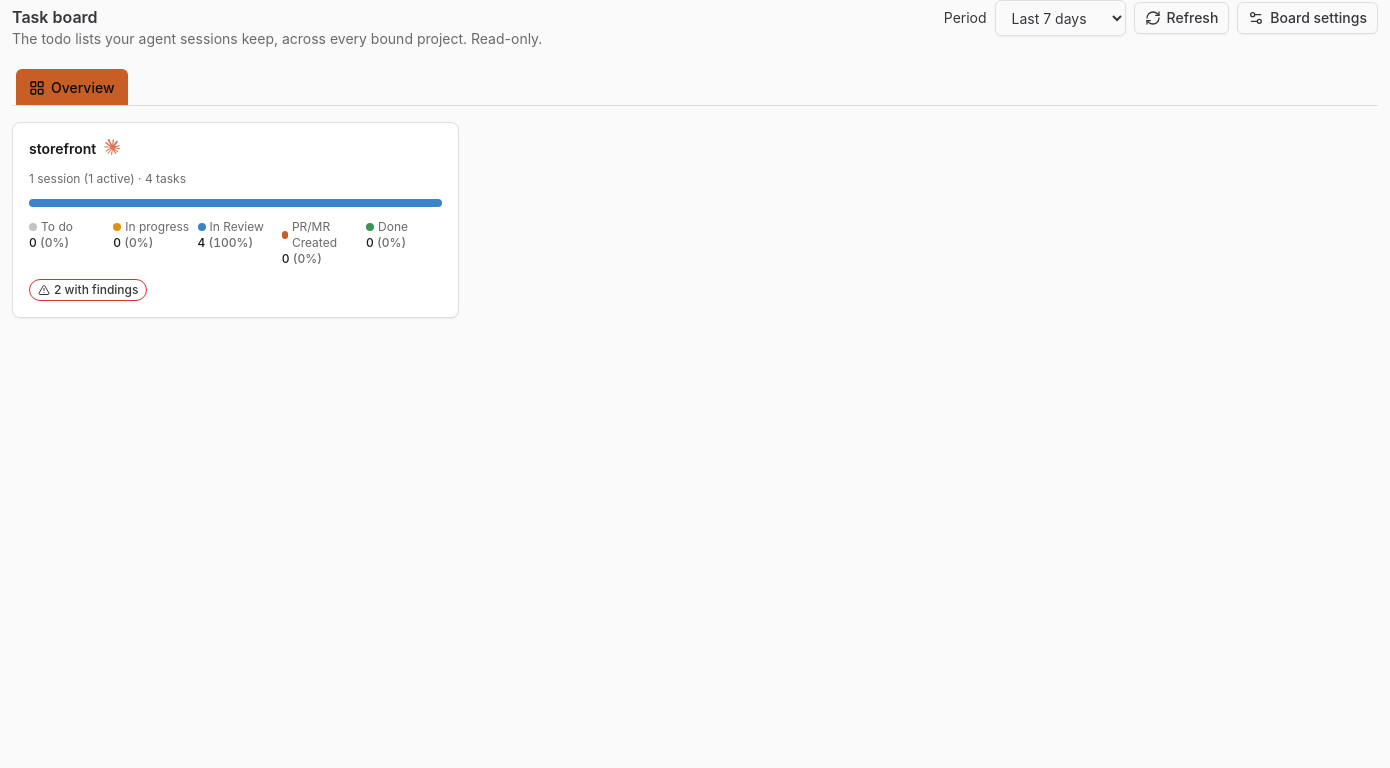
Test: Project kanban › badges review state in words, counts findings, and times the card from review.since
Click the button "storefront". click: [236, 220]
box: [12,122,459,318]
(page scrolled)
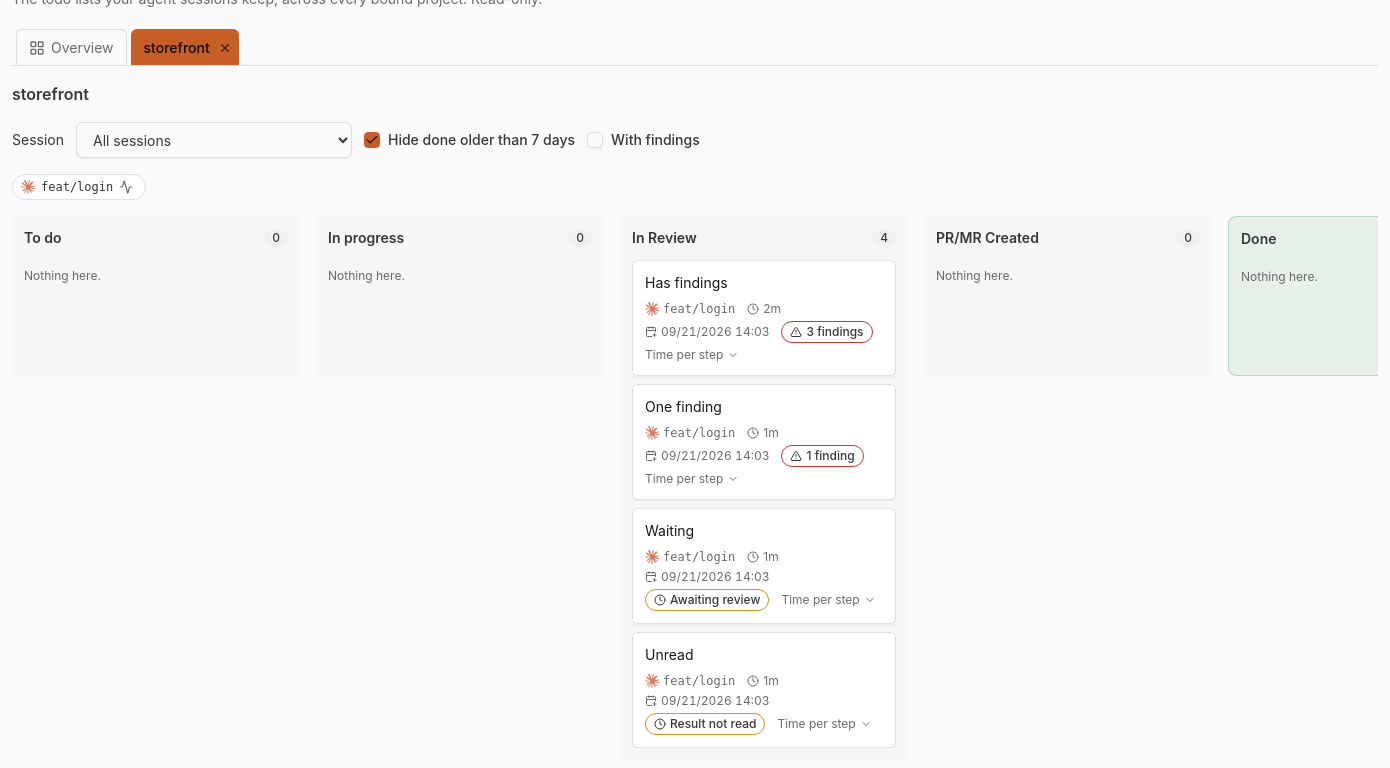
Check: the tab "storefront" is shown, box [144,38,210,58]
Check: the text "3 findings" is shown, box [782,321,873,343]
Check: the text "1 finding" is shown, box [782,445,864,467]
